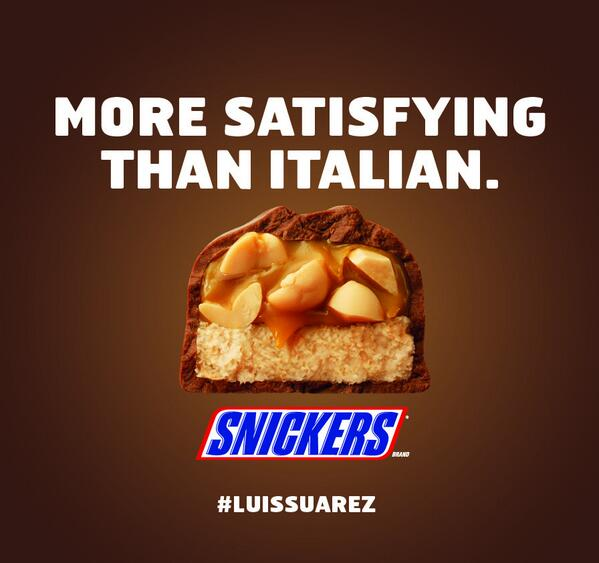snickers: (205, 410, 400, 454)
